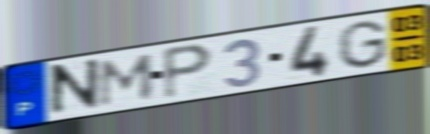3: (221, 36, 264, 89)
4: (287, 23, 333, 80)
G: (335, 19, 389, 70)
M: (97, 51, 158, 109)
N: (48, 55, 102, 120)
P: (161, 42, 216, 103)
